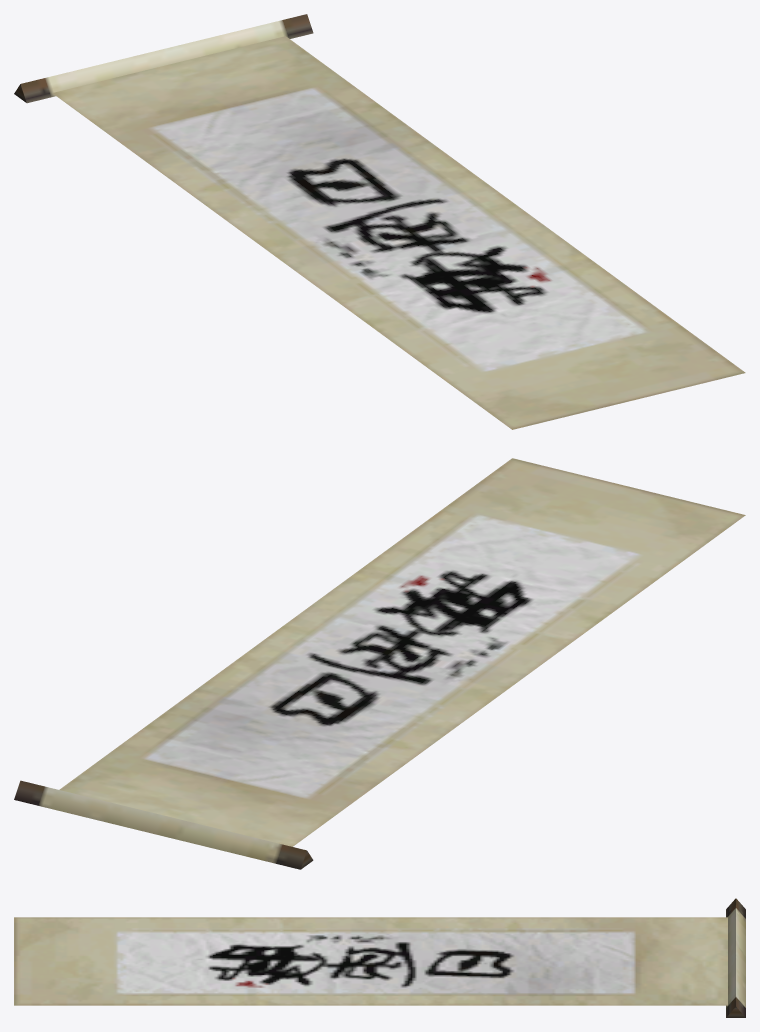
File: scroll1.fbx
The picture shows the model from 3 angles, top to bottom: view 1: azimuth 30°, elevation 25°; view 2: azimuth 150°, elevation 25°; view 3: azimuth 270°, elevation 25°; orthographic projection. The views are drawn at different scales.
Parts seen in each view (by area): view 1: mesh_0, mesh_1; view 2: mesh_0, mesh_1; view 3: mesh_0, mesh_1.
Boxes of the visible parts, left/top/right/bottom form: mesh_0: left=52, top=36, right=745, bottom=429; mesh_1: left=14, top=14, right=313, bottom=103; mesh_0: left=59, top=458, right=745, bottom=846; mesh_1: left=14, top=780, right=313, bottom=869; mesh_0: left=14, top=917, right=727, bottom=1005; mesh_1: left=726, top=898, right=745, bottom=1017.
Size of the model in its own units: 61.94 by 3.03 by 177.
Materials: 1 (1 with a texture image).
